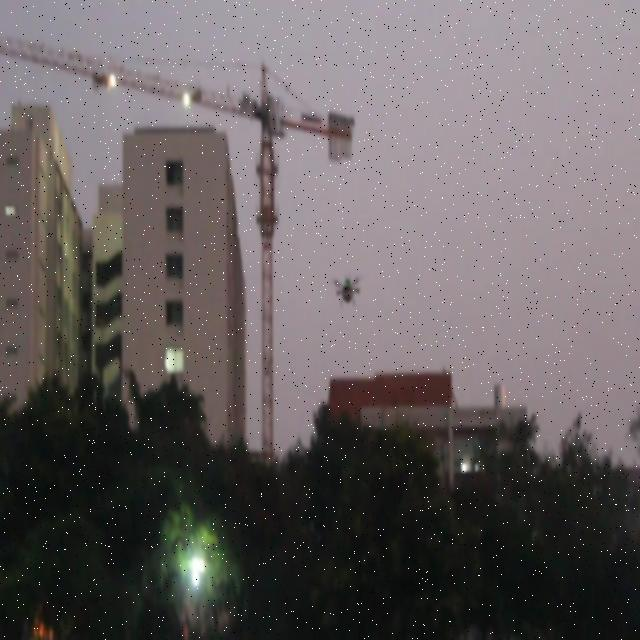UAV: (333, 273, 361, 308)
